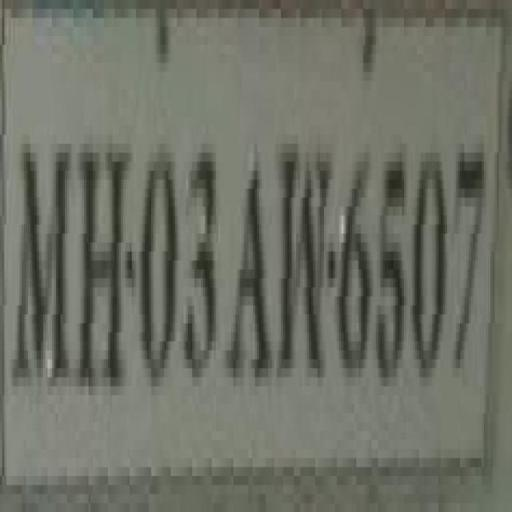number plate: (0, 18, 503, 503)
